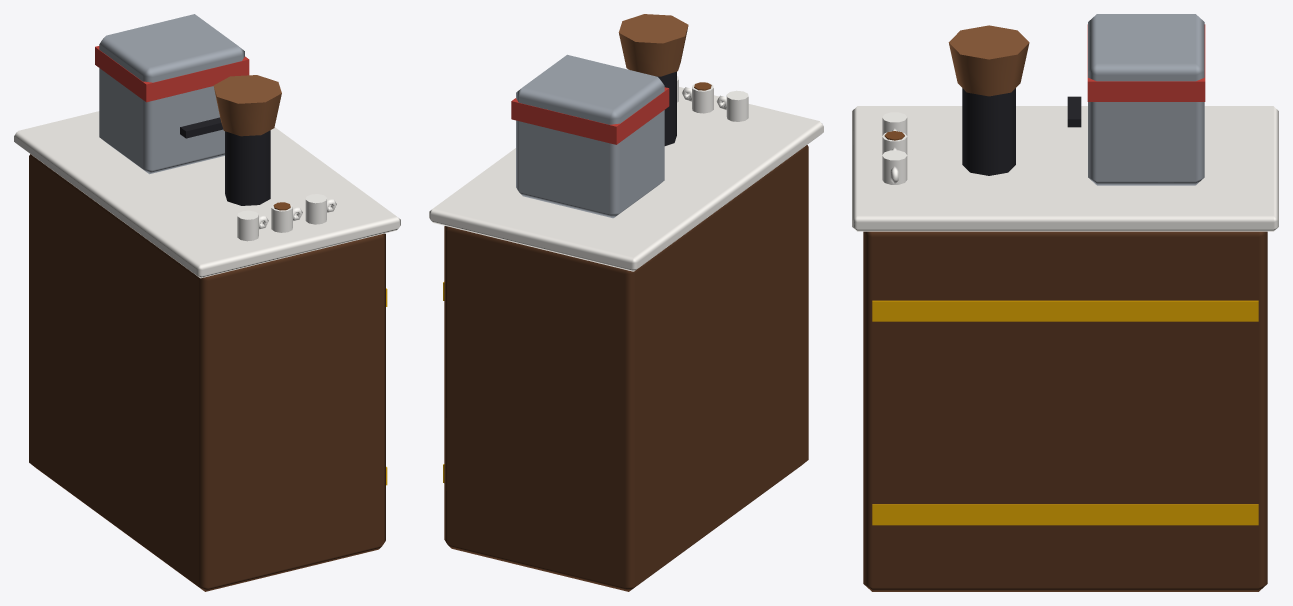
Rendered from station_intake_ausstattung_3_3.glb.
The picture shows the model from 3 angles, left to right: view 1: azimuth 30°, elevation 25°; view 2: azimuth 150°, elevation 25°; view 3: azimuth 270°, elevation 25°; orthographic projection. The views are drawn at different scales.
Parts seen in each view (by area): view 1: station_intake_ausstattung_3_3; view 2: station_intake_ausstattung_3_3; view 3: station_intake_ausstattung_3_3.
Boxes of the visible parts, x1,y1,x2,y2 form: station_intake_ausstattung_3_3: (14, 14, 400, 591); station_intake_ausstattung_3_3: (429, 14, 823, 591); station_intake_ausstattung_3_3: (852, 14, 1278, 591).
Size of the model in its own units: 0.6 by 1.24 by 0.95.
